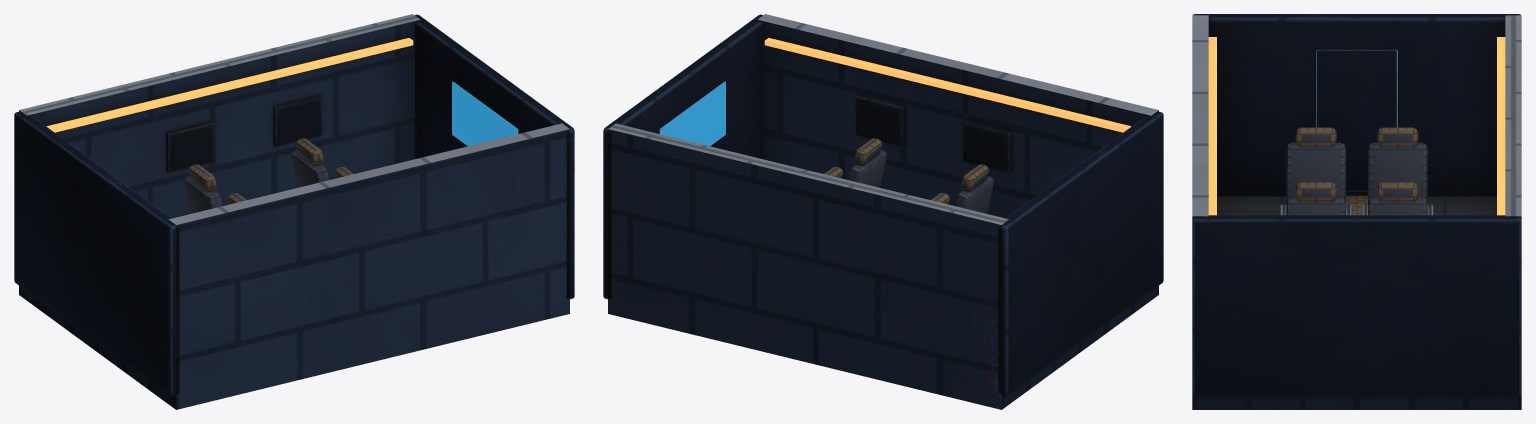
The model's file is cabin-4.glb.
The picture shows the model from 3 angles, left to right: view 1: azimuth 30°, elevation 25°; view 2: azimuth 150°, elevation 25°; view 3: azimuth 270°, elevation 25°; orthographic projection. The views are drawn at different scales.
Visible parts, largest first — view 1: cabin, seat_2, seat_4; view 2: cabin, seat_1, seat_3; view 3: cabin, seat_3, seat_4, seat_1, seat_2.
Part boxes in pixels (left/top/right/bottom): cabin: left=14, top=14, right=574, bottom=409; seat_2: left=291, top=138, right=329, bottom=187; seat_4: left=184, top=164, right=222, bottom=213; cabin: left=603, top=14, right=1163, bottom=409; seat_1: left=848, top=138, right=886, bottom=187; seat_3: left=955, top=164, right=993, bottom=213; cabin: left=1192, top=14, right=1521, bottom=409; seat_3: left=1280, top=127, right=1352, bottom=215; seat_4: left=1361, top=127, right=1433, bottom=215; seat_1: left=1286, top=182, right=1345, bottom=215; seat_2: left=1368, top=182, right=1427, bottom=215.
Bounding box in the file's own units: 1 × 0.4361 × 0.6722.
2 materials, 2 textured.
